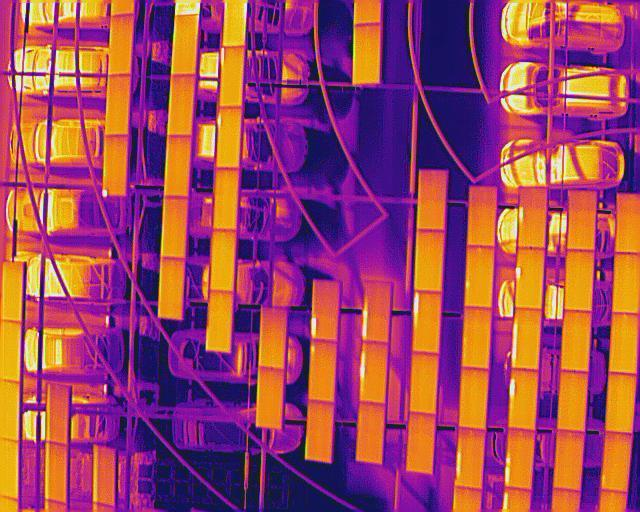Cell: (518, 186, 548, 248), (512, 248, 542, 308), (464, 246, 492, 308), (309, 340, 335, 402), (102, 136, 128, 196), (215, 107, 241, 167)
No-Anomaly: (409, 352, 442, 413), (416, 168, 448, 230), (608, 312, 640, 373), (560, 311, 592, 372), (557, 370, 588, 432), (457, 368, 489, 428), (601, 432, 633, 492), (553, 430, 585, 490), (563, 250, 594, 311), (414, 230, 444, 292), (405, 411, 435, 473), (604, 373, 635, 432), (356, 401, 385, 464), (466, 185, 495, 247), (157, 259, 186, 320), (611, 252, 640, 313), (166, 75, 194, 138), (567, 189, 596, 249), (462, 307, 490, 368), (205, 291, 233, 352), (207, 230, 234, 293), (260, 304, 286, 369), (170, 16, 199, 74), (255, 366, 282, 428), (353, 26, 381, 84), (104, 75, 131, 135), (305, 401, 332, 461), (212, 168, 238, 230), (92, 444, 116, 508), (615, 193, 640, 253), (107, 15, 132, 75), (164, 137, 188, 199), (1, 261, 25, 322), (46, 441, 68, 506), (161, 197, 184, 259), (47, 383, 69, 446), (221, 0, 244, 46)
Unclassified: (452, 428, 485, 489), (509, 308, 541, 370), (504, 427, 535, 490), (411, 292, 442, 354), (310, 278, 339, 341), (508, 368, 537, 431), (359, 342, 388, 403), (362, 281, 389, 343), (218, 47, 243, 107)
